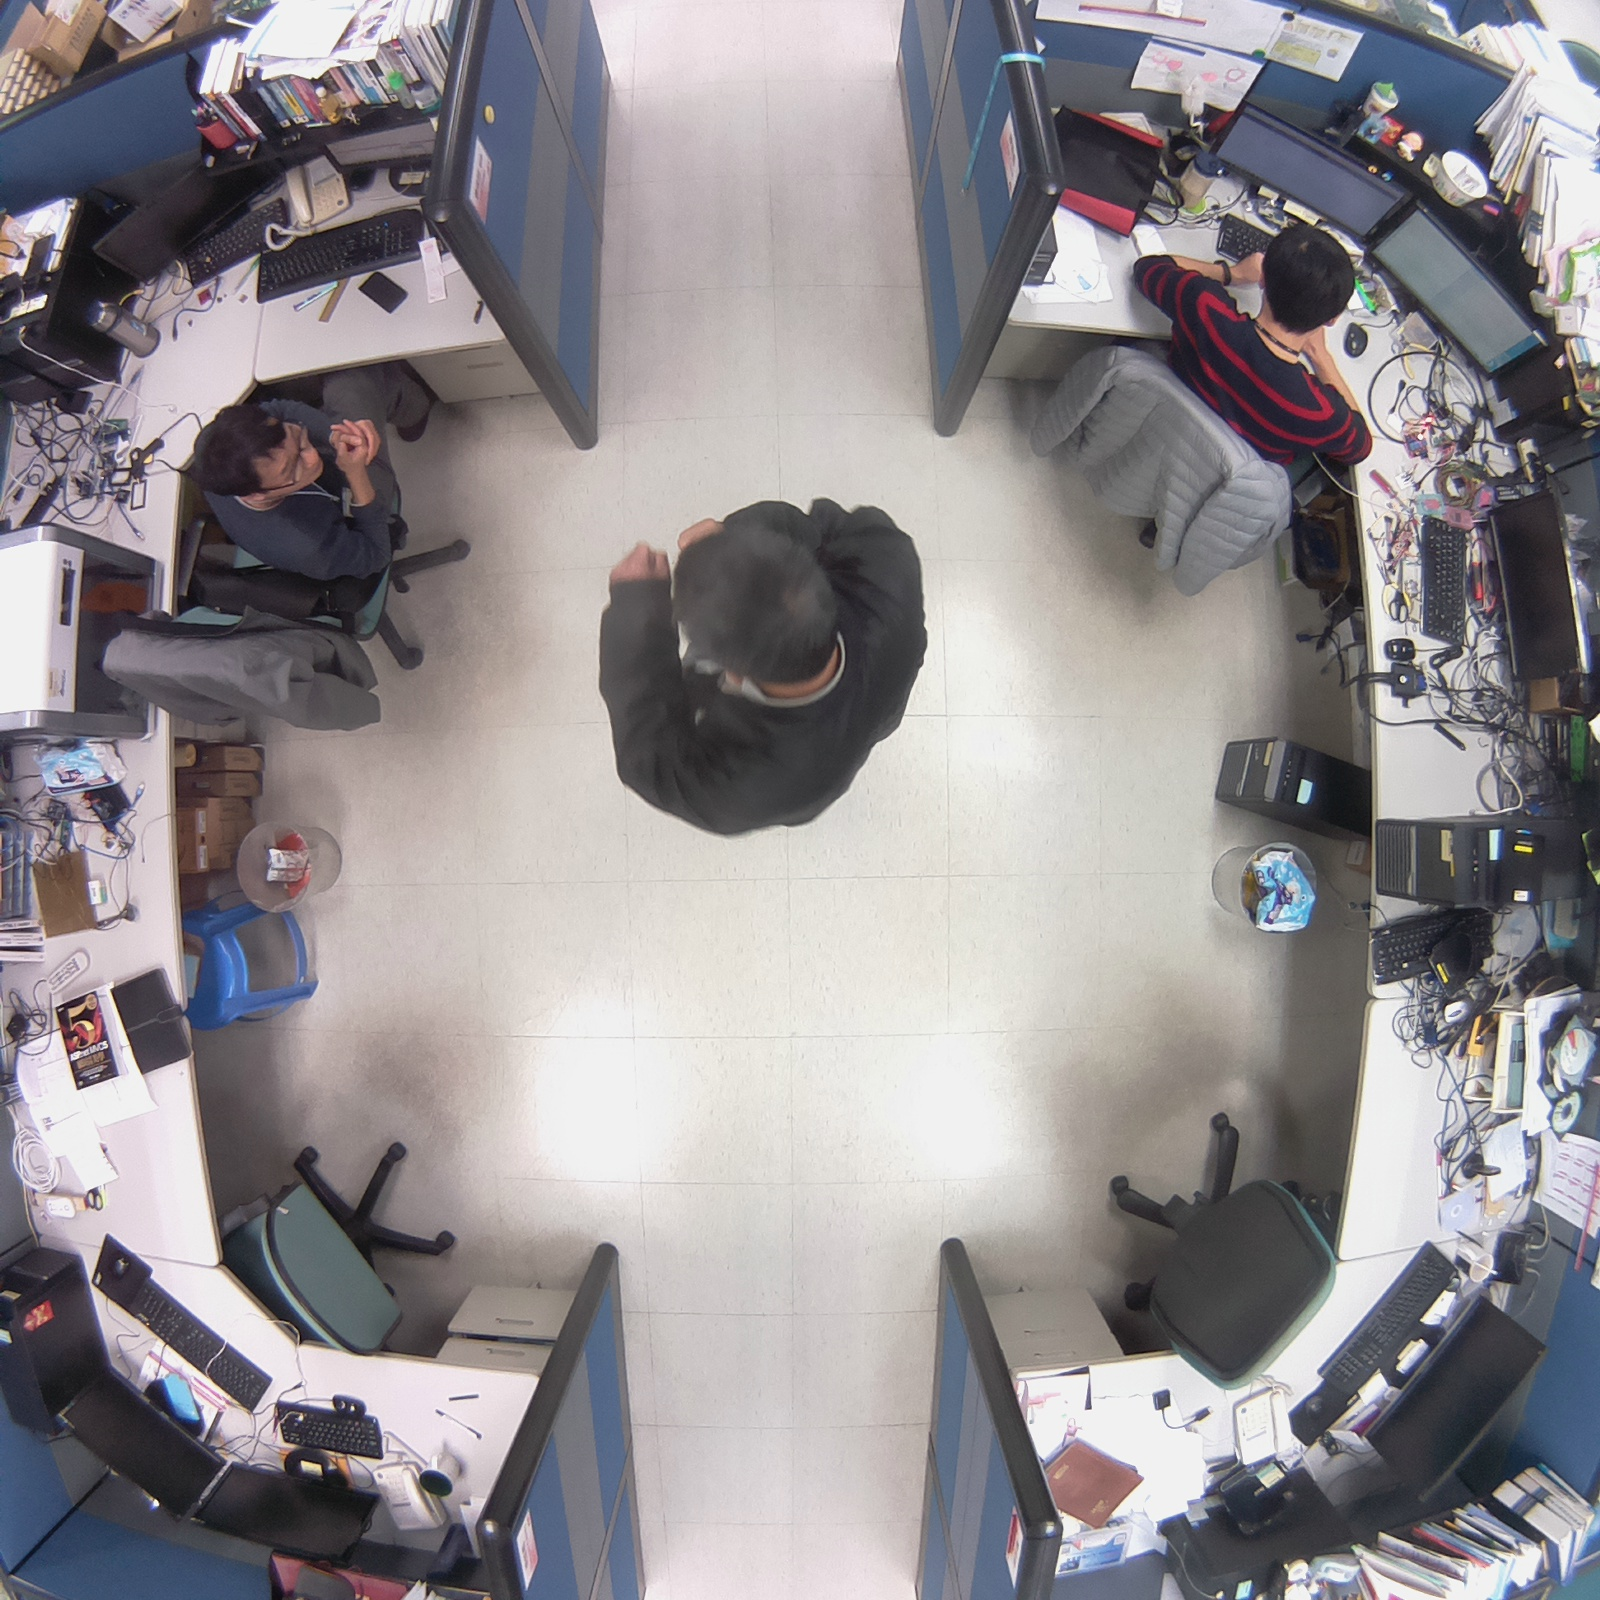chair: (1068, 1091, 1353, 1406), (201, 1127, 473, 1368)
head: (659, 521, 846, 695), (180, 395, 323, 508), (1253, 217, 1361, 340)
sitting: (88, 378, 486, 755), (1009, 214, 1376, 609)
standing: (581, 491, 947, 841)
